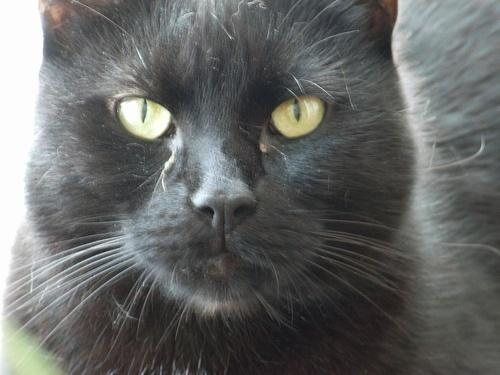cat: (1, 2, 500, 375)
